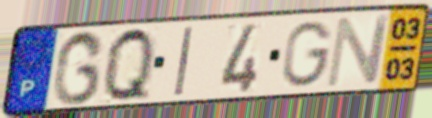4: (219, 20, 262, 95)
G: (50, 28, 108, 107), (280, 19, 336, 89)
I: (172, 25, 196, 99)
N: (324, 12, 394, 89)
Q: (103, 24, 156, 105)
